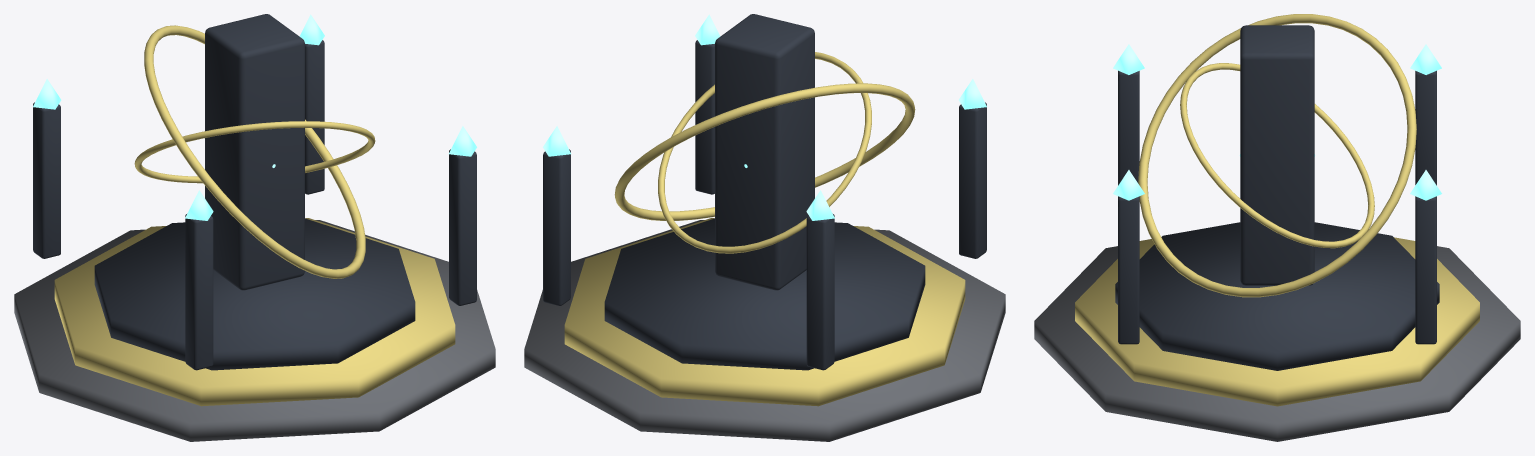
Rendered from blender_nexus_monolith.glb.
3 views of the same model, side by side, from view 1: azimuth 30°, elevation 25°; view 2: azimuth 150°, elevation 25°; view 3: azimuth 270°, elevation 25° (orthographic). The views are drawn at different scales.
Parts seen in each view (by area): view 1: Plinth_Tier3, Plinth_Tier1, Central_Monolith, Plinth_Tier2, Orbital_Ring_Outer, Sentinel_Pylon_3, Sentinel_Pylon_2, Sentinel_Pylon_4, Orbital_Ring_Inner, Sentinel_Pylon_1, Beacon_2, Beacon_3 (+2 smaller); view 2: Plinth_Tier3, Plinth_Tier1, Central_Monolith, Plinth_Tier2, Orbital_Ring_Outer, Sentinel_Pylon_2, Sentinel_Pylon_3, Sentinel_Pylon_1, Orbital_Ring_Inner, Sentinel_Pylon_4, Beacon_3, Beacon_2 (+2 smaller); view 3: Plinth_Tier3, Plinth_Tier1, Central_Monolith, Plinth_Tier2, Orbital_Ring_Outer, Orbital_Ring_Inner, Sentinel_Pylon_1, Sentinel_Pylon_4, Sentinel_Pylon_3, Sentinel_Pylon_2, Beacon_1, Beacon_4 (+2 smaller).
Boxes of the visible parts, box(x1,y1,x2,y2) form: Plinth_Tier3: box(94, 218, 415, 370); Plinth_Tier1: box(14, 220, 495, 441); Central_Monolith: box(205, 14, 304, 290); Plinth_Tier2: box(54, 218, 455, 406); Orbital_Ring_Outer: box(144, 25, 365, 278); Sentinel_Pylon_3: box(185, 214, 213, 370); Sentinel_Pylon_2: box(33, 102, 60, 258); Sentinel_Pylon_4: box(449, 149, 476, 305); Orbital_Ring_Inner: box(134, 121, 375, 183); Sentinel_Pylon_1: box(305, 40, 324, 194); Beacon_2: box(33, 79, 61, 109); Beacon_3: box(185, 190, 213, 220); Plinth_Tier3: box(604, 218, 925, 370); Plinth_Tier1: box(524, 220, 1005, 441); Central_Monolith: box(715, 14, 814, 290); Plinth_Tier2: box(564, 218, 965, 406); Orbital_Ring_Outer: box(614, 83, 915, 220); Sentinel_Pylon_2: box(806, 214, 834, 370); Sentinel_Pylon_3: box(959, 102, 986, 258); Sentinel_Pylon_1: box(543, 149, 570, 305); Orbital_Ring_Inner: box(658, 52, 871, 253); Sentinel_Pylon_4: box(695, 40, 714, 194); Beacon_3: box(958, 79, 986, 109); Beacon_2: box(806, 190, 834, 220); Plinth_Tier3: box(1115, 222, 1439, 370); Plinth_Tier1: box(1034, 246, 1520, 441); Central_Monolith: box(1240, 25, 1314, 285); Plinth_Tier2: box(1075, 237, 1479, 406); Orbital_Ring_Outer: box(1138, 14, 1416, 297); Orbital_Ring_Inner: box(1180, 63, 1374, 248); Sentinel_Pylon_1: box(1415, 196, 1436, 344); Sentinel_Pylon_4: box(1118, 196, 1139, 344); Sentinel_Pylon_3: box(1118, 70, 1139, 185); Sentinel_Pylon_2: box(1415, 70, 1436, 185); Beacon_1: box(1410, 170, 1441, 200); Beacon_4: box(1113, 170, 1144, 200).
Size of the model in its own units: 3.6 by 2.45 by 3.6.
